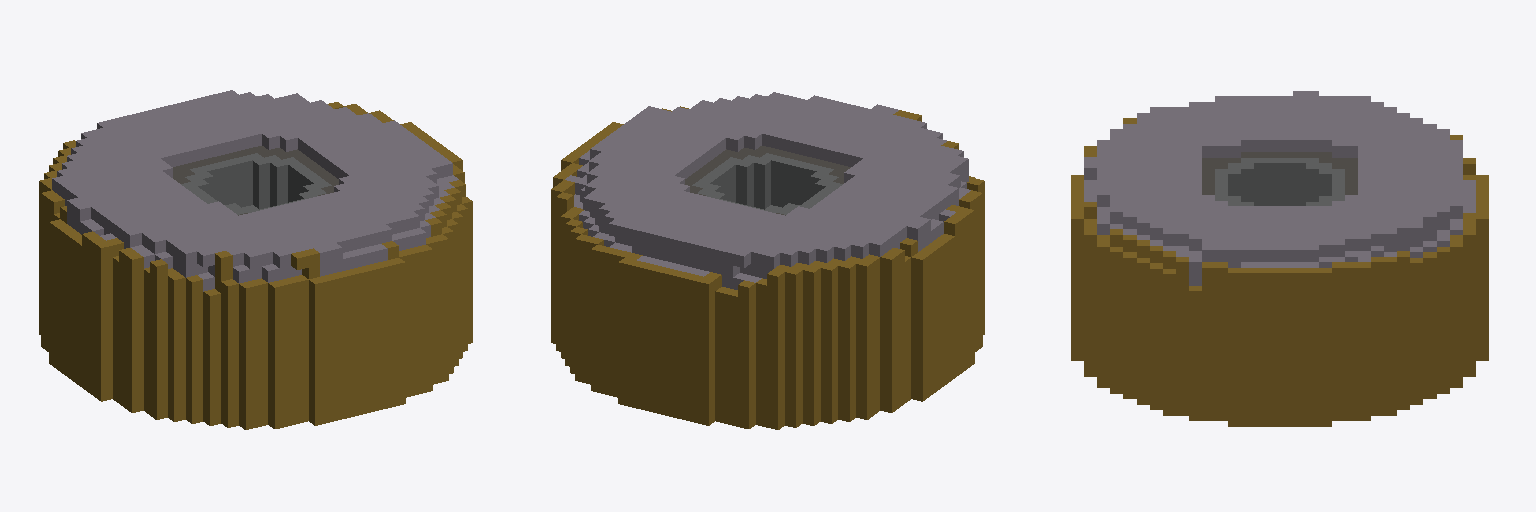
3 views of the same model, side by side, from view 1: azimuth 30°, elevation 25°; view 2: azimuth 150°, elevation 25°; view 3: azimuth 270°, elevation 25° (orthographic).
Parts seen in each view (by area): view 1: object 1; view 2: object 1; view 3: object 1.
Boxes of the visible parts, x1=… form: object 1: x1=39, y1=90, x2=472, y2=429; object 1: x1=551, y1=92, x2=984, y2=429; object 1: x1=1071, y1=91, x2=1488, y2=426.
Size of the model in its own units: 3.2 by 1.4 by 3.2.
1 materials, 1 textured.